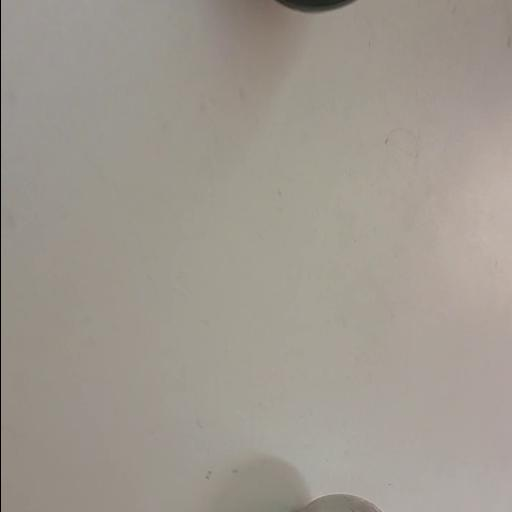alive: (283, 492, 391, 512)
dead: (268, 0, 360, 14)
